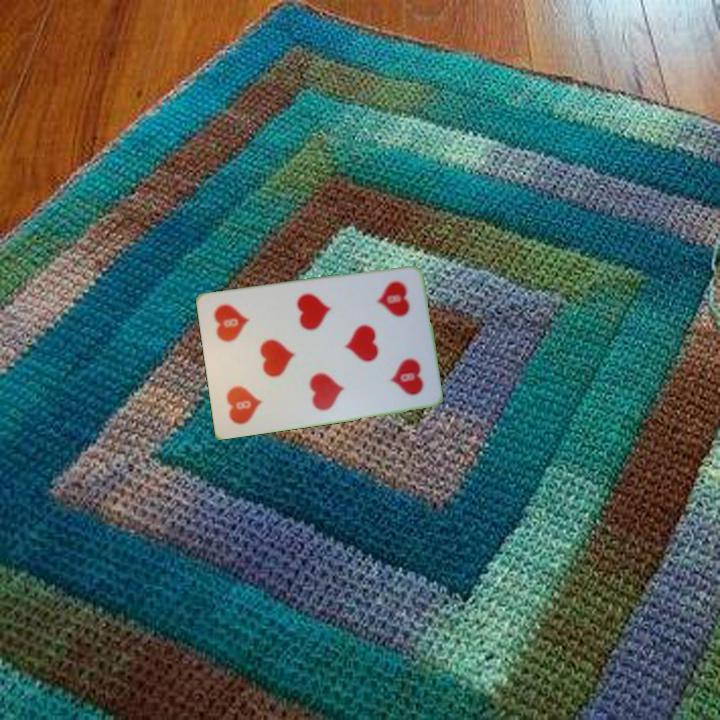h_8.png: (358, 273, 424, 347), (215, 355, 281, 429)
